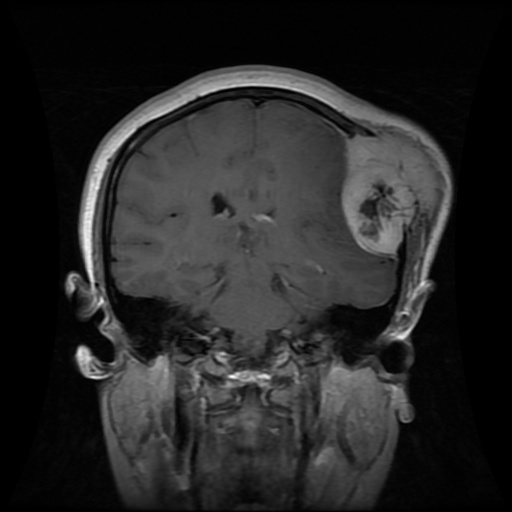meningioma: (341, 131, 443, 255)
